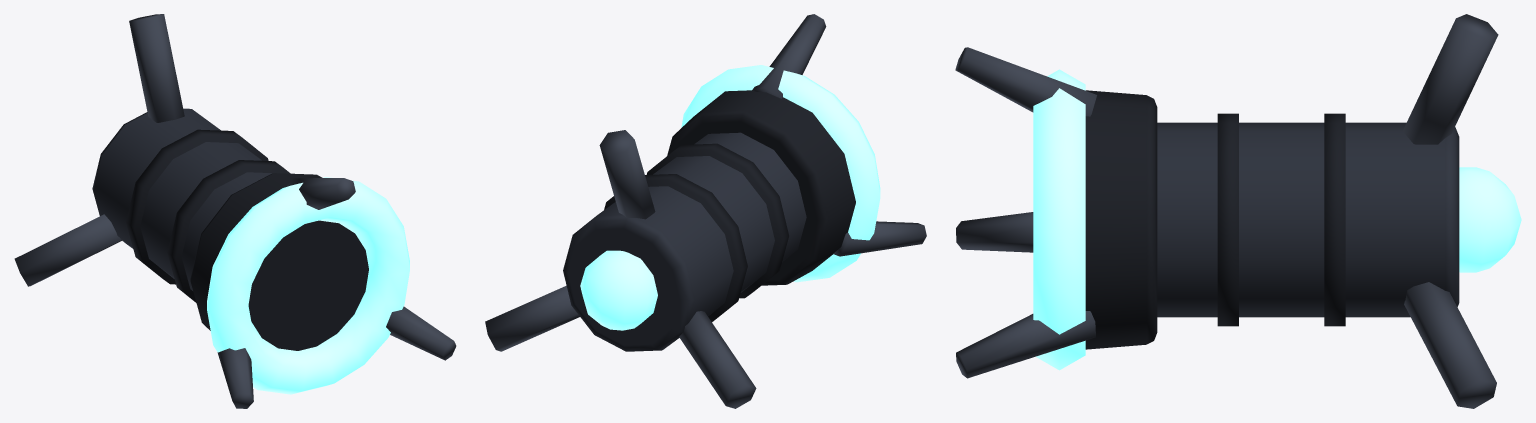
The model's file is x_grap_laser.glb.
The picture shows the model from 3 angles, left to right: view 1: azimuth 30°, elevation 25°; view 2: azimuth 150°, elevation 25°; view 3: azimuth 270°, elevation 25°; orthographic projection. The views are drawn at different scales.
Parts seen in each view (by area): view 1: hook_body.004, hook_glow; view 2: hook_body.004, hook_glow; view 3: hook_body.004, hook_glow.
Boxes of the visible parts, x1=… form: hook_body.004: x1=14, y1=14, x2=456, y2=408; hook_glow: x1=207, y1=177, x2=409, y2=394; hook_body.004: x1=485, y1=14, x2=926, y2=408; hook_glow: x1=580, y1=65, x2=880, y2=330; hook_body.004: x1=955, y1=14, x2=1498, y2=408; hook_glow: x1=1033, y1=69, x2=1521, y2=370.
Size of the model in its own units: 0.2229 by 0.2088 by 0.3186.
